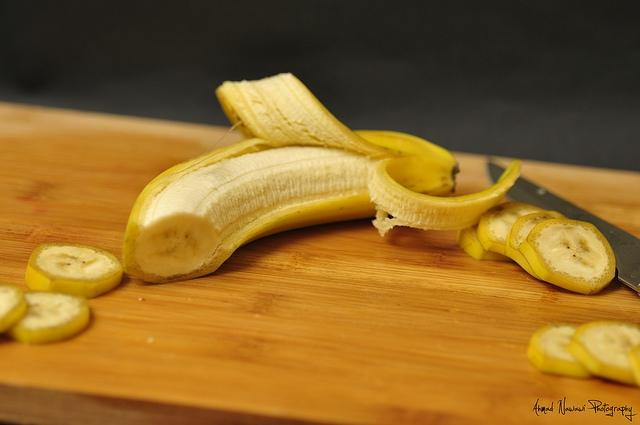banana: (126, 72, 520, 283), (518, 219, 616, 294), (24, 242, 124, 298), (566, 321, 640, 386), (504, 210, 570, 282), (6, 290, 90, 344), (477, 202, 548, 256), (526, 322, 594, 378), (456, 223, 516, 262), (0, 284, 29, 332)
